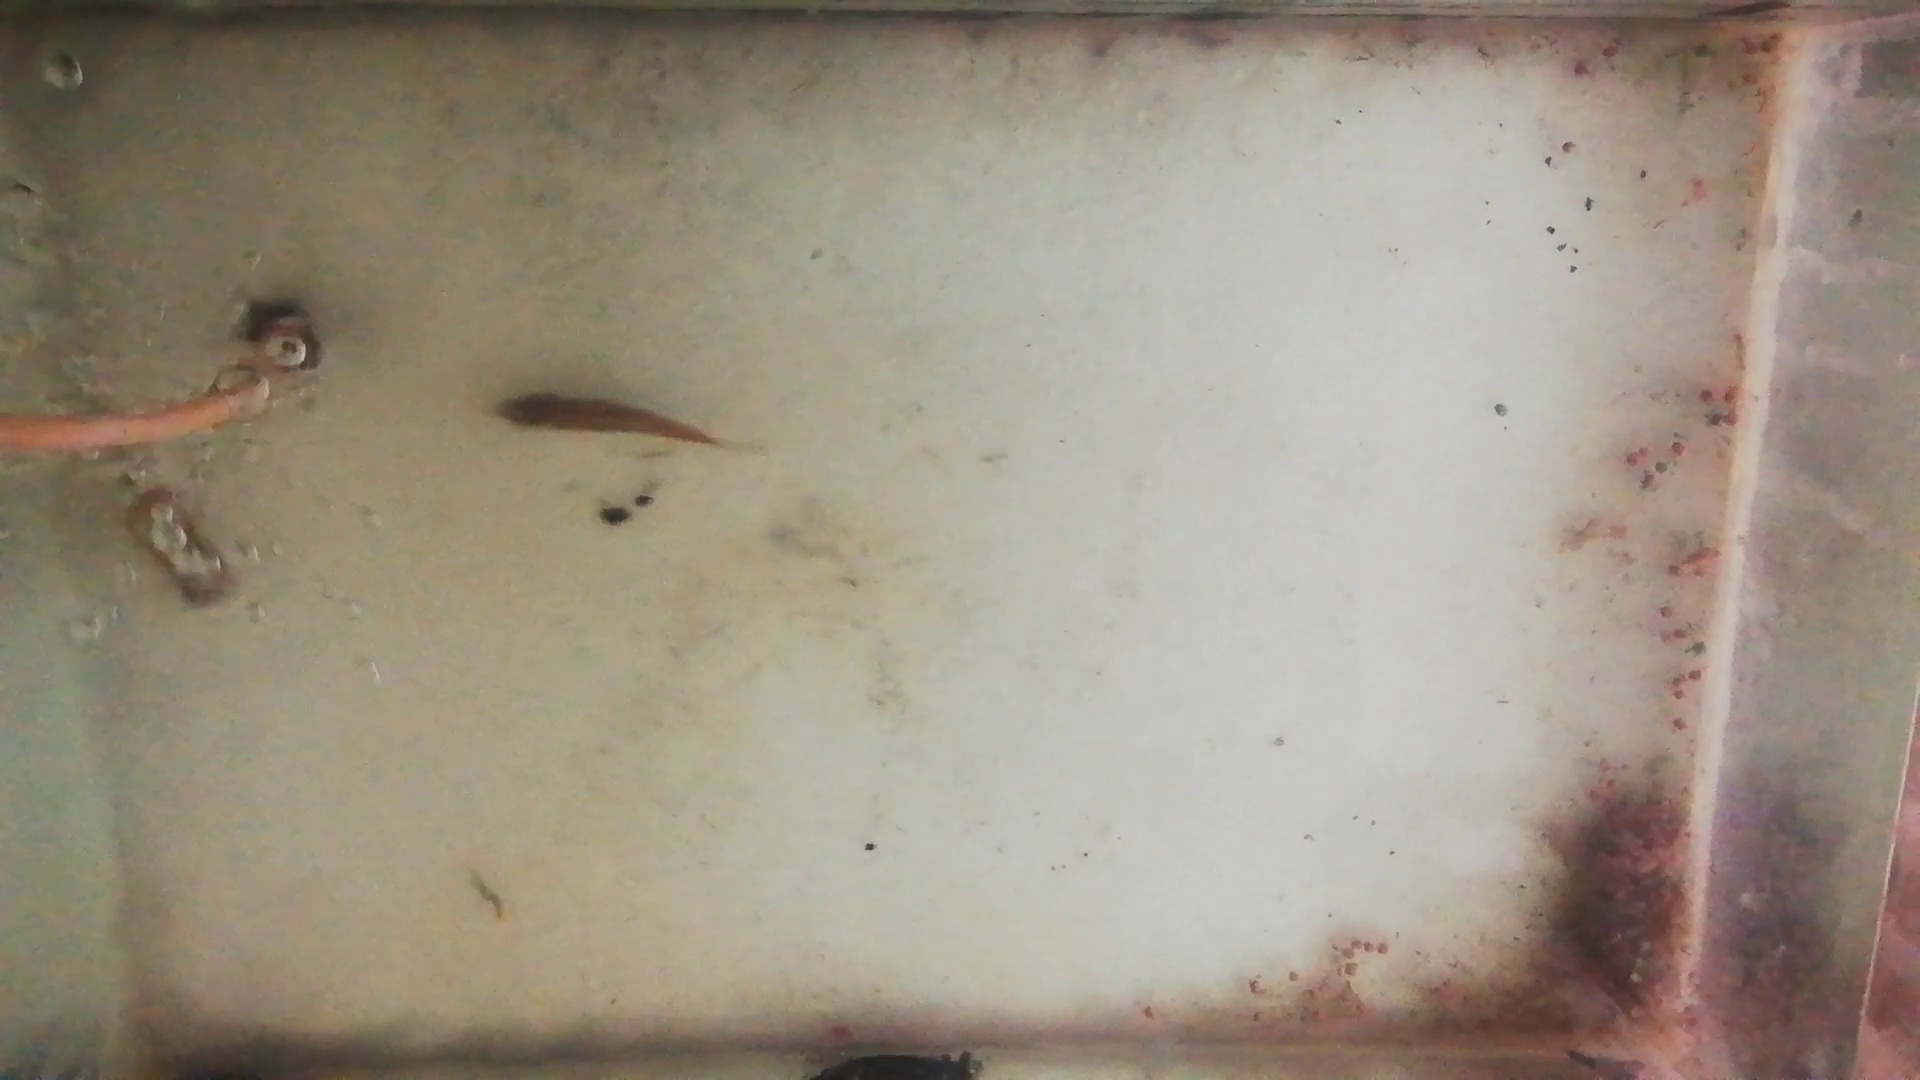fish: (128, 483, 237, 603), (485, 392, 723, 439)
